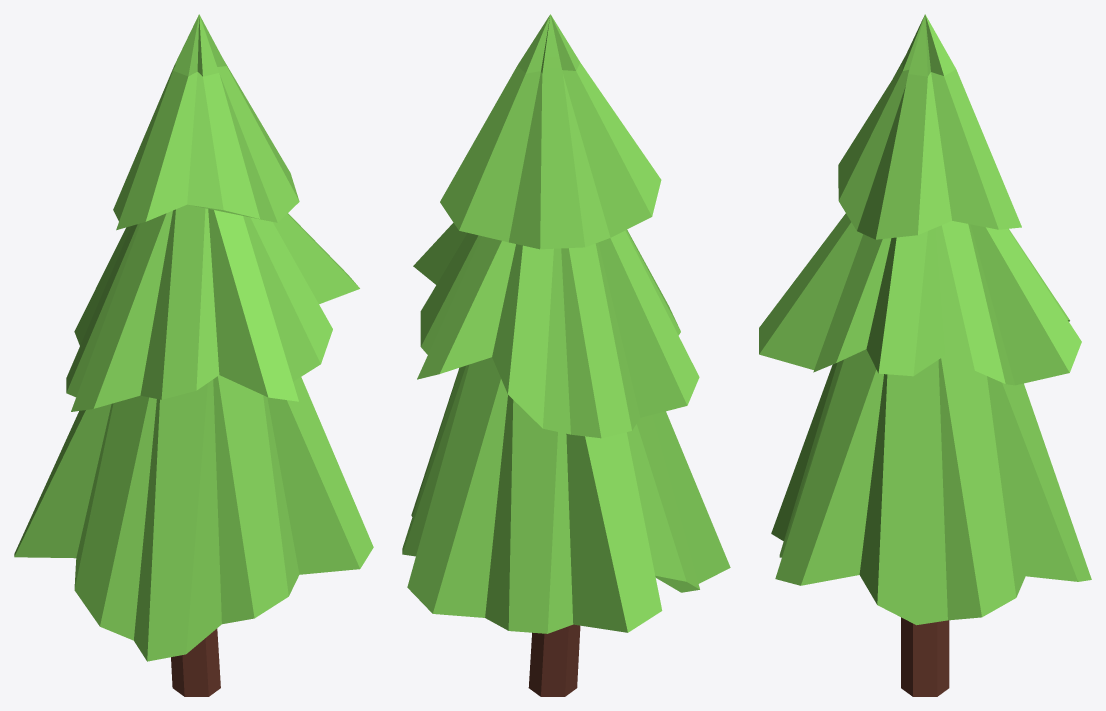
File: SM_PineTree_B.fbx
3 renders of one model, left to right at view 1: azimuth 30°, elevation 25°; view 2: azimuth 150°, elevation 25°; view 3: azimuth 270°, elevation 25°, orthographic.
Visible parts, largest first — view 1: SM_PineTree_B; view 2: SM_PineTree_B; view 3: SM_PineTree_B.
Part boxes in pixels (x1,y1,x2,y2): SM_PineTree_B: (14, 14, 373, 696); SM_PineTree_B: (402, 14, 730, 696); SM_PineTree_B: (759, 14, 1091, 696).
Size of the model in its own units: 147 by 323 by 144.
